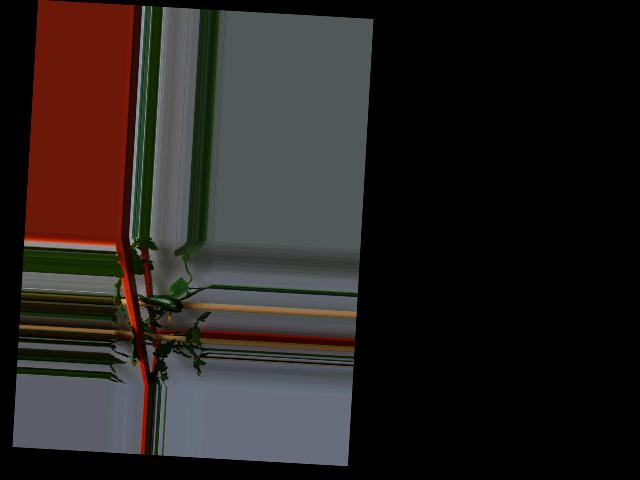cucumber: (144, 294, 187, 313)
